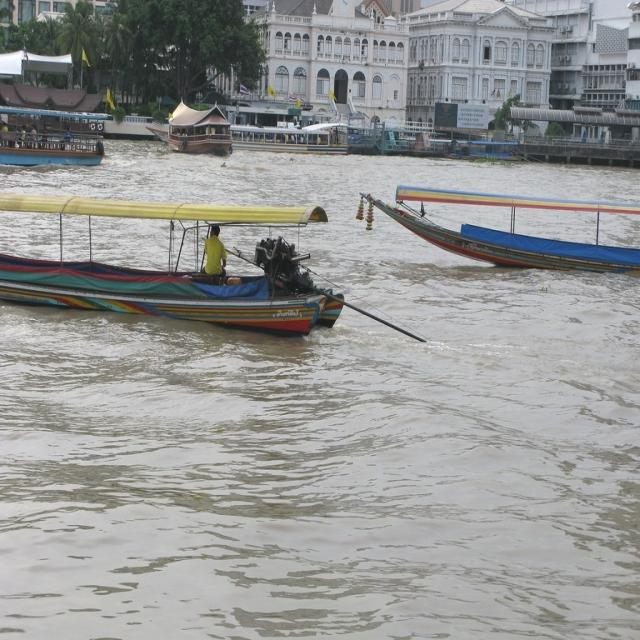boat: (1, 183, 354, 335), (1, 99, 123, 168), (146, 106, 243, 152)
